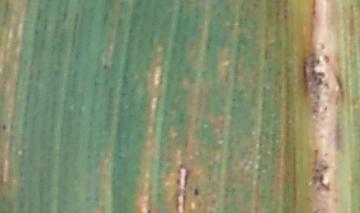tarspot: (318, 173, 330, 192), (310, 68, 326, 82), (310, 58, 321, 69), (316, 41, 327, 51), (314, 77, 323, 89), (310, 174, 318, 187), (322, 53, 330, 65), (310, 166, 322, 174), (321, 163, 329, 172), (192, 186, 199, 196), (311, 108, 319, 116), (1, 123, 8, 132), (102, 62, 109, 71), (315, 93, 320, 102), (145, 207, 152, 213), (323, 104, 328, 112)
